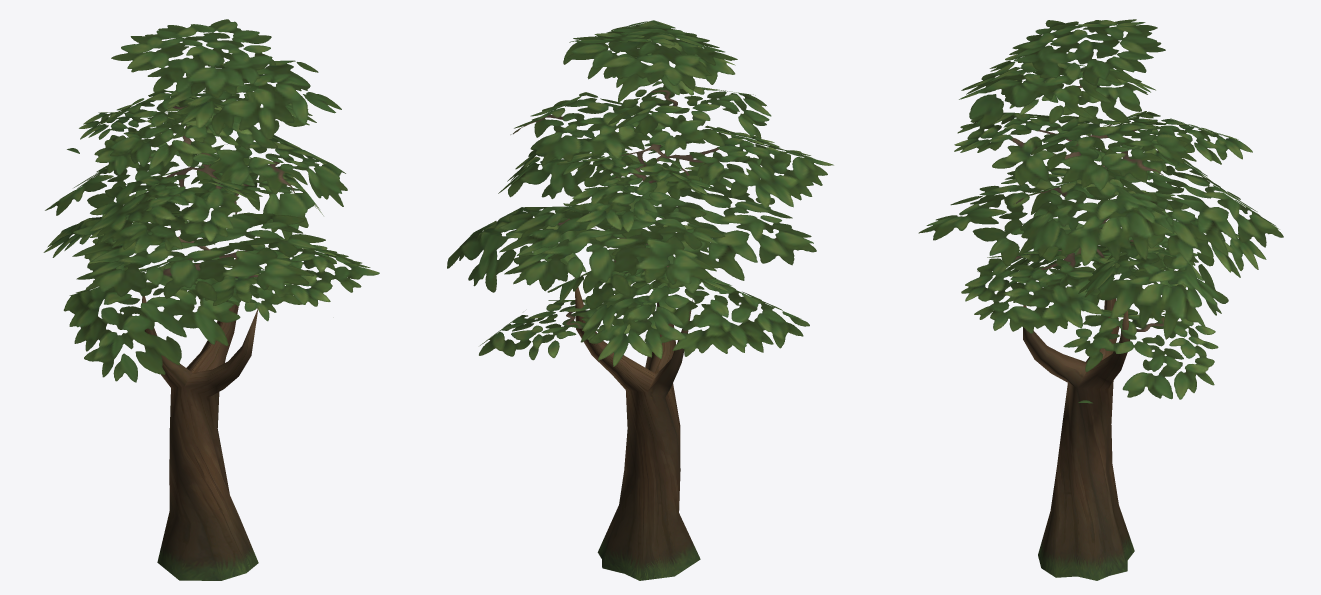
The model's file is Lty_shu_01.FBX.
The picture shows the model from 3 angles, left to right: view 1: azimuth 30°, elevation 25°; view 2: azimuth 150°, elevation 25°; view 3: azimuth 270°, elevation 25°; orthographic projection.
Parts seen in each view (by area): view 1: Mesh 012; view 2: Mesh 012; view 3: Mesh 012.
Boxes of the visible parts, x1=… form: Mesh 012: x1=43, y1=19, x2=379, y2=580; Mesh 012: x1=447, y1=20, x2=833, y2=580; Mesh 012: x1=918, y1=19, x2=1283, y2=580.
Bounding box in the file's own units: 330 × 496 × 368.
